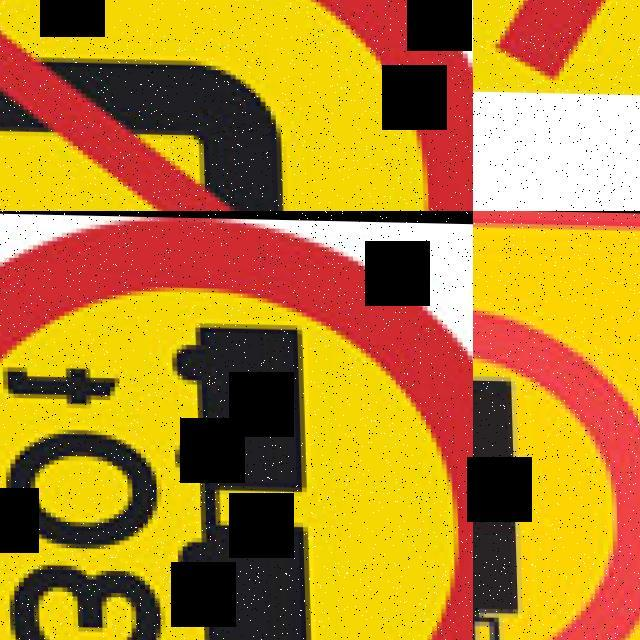4: (473, 0, 640, 98)
No vehicles or combination of vehicles exceeding weight shown: (0, 211, 473, 640)
axle weight limit 30tonnes: (473, 211, 640, 640)
no turning left: (0, 0, 473, 211)
